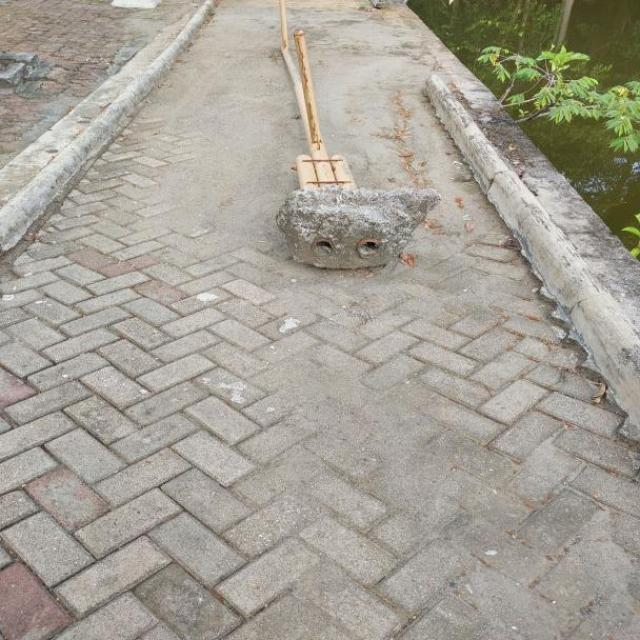stones ahead at: (278, 146, 446, 277)
